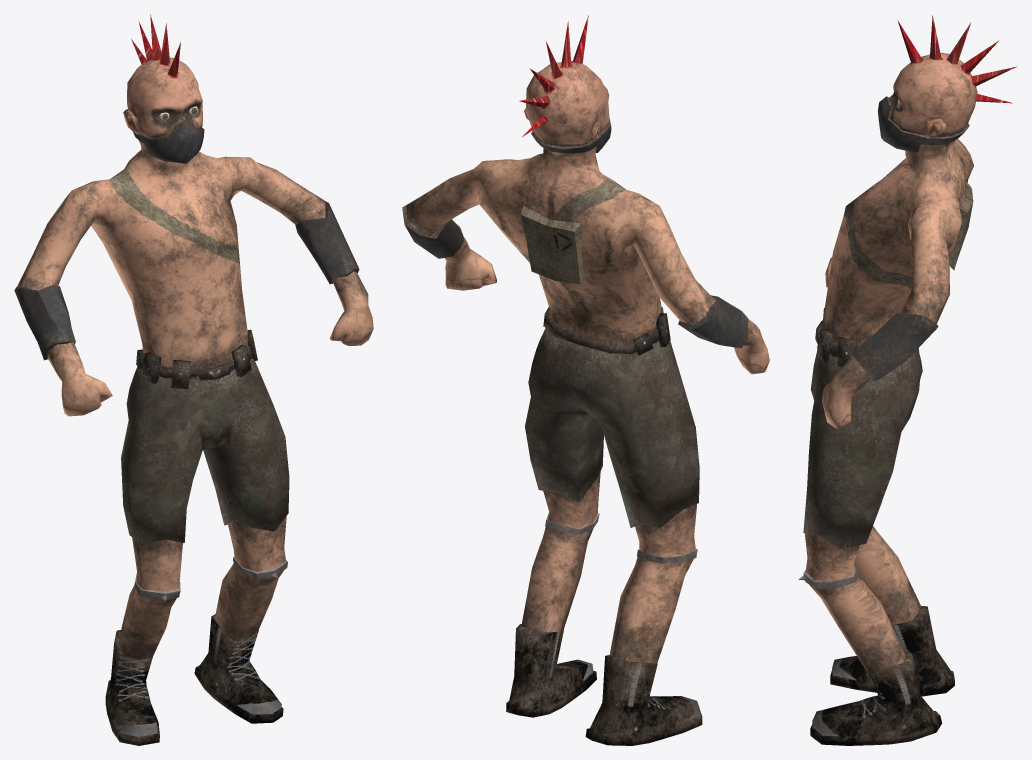
Rendered from Anim_morir_1_npc2.0014.obj.
The picture shows the model from 3 angles, left to right: view 1: azimuth 30°, elevation 25°; view 2: azimuth 150°, elevation 25°; view 3: azimuth 270°, elevation 25°; orthographic projection. The views are drawn at different scales.
Parts seen in each view (by area): view 1: polySurface1; view 2: polySurface1; view 3: polySurface1.
Boxes of the visible parts, bbox=[...] form: polySurface1: bbox=[14, 14, 373, 745]; polySurface1: bbox=[402, 15, 769, 745]; polySurface1: bbox=[798, 15, 1016, 745].
Bounding box in the file's own units: 4.68 × 9.75 × 2.78.
